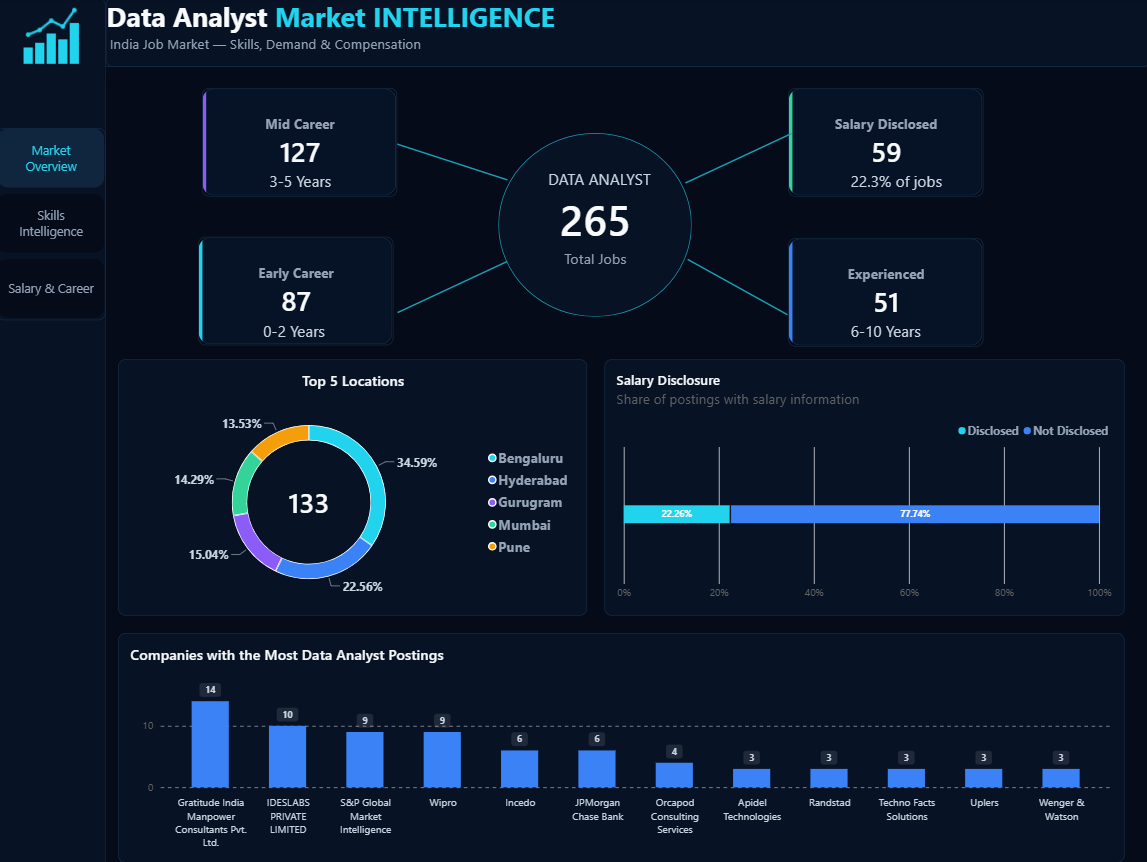

This screenshot's page, from the dashboard's own definition file:
{"tool":"powerbi","page":{"name":"Market Overview","canvas":[1600,1200],"ordinal":0},"visuals":[{"type":"shape","box":[0,0,1600.4,95],"z":0},{"type":"textbox","box":[150.5,0,1449.8,95.4],"z":1000},{"type":"shape","box":[0,0,150.5,1250.1],"z":2000},{"type":"pageNavigator","box":[0,180.3,150.5,266.7],"z":3000},{"type":"shape","box":[694.4,186.3,268.2,254.8],"z":4000},{"type":"cardVisual","fields":{"Data":["job_market_tracker data_analyst_jobs.Total Jobs"]},"box":[728.6,245.9,200,150],"z":5000},{"type":"textbox","box":[764.4,235.4,153.5,41.7],"z":6000},{"type":"cardVisual","title":"Salary Discolsed Jobs","fields":{"Data":["job_market_tracker data_analyst_jobs.Salary Disclosed Jobs"]},"box":[1096.7,125.2,270,150],"z":7000},{"type":"textbox","box":[1183.1,238.4,157.9,35.8],"z":8000},{"type":"cardVisual","title":"Salary Discolsed Jobs","fields":{"Data":["job_market_tracker data_analyst_jobs.Mid Career Jobs"]},"box":[284.6,125.2,270,150],"z":9000},{"type":"textbox","box":[377,238.4,157.9,35.8],"z":10000},{"type":"cardVisual","title":"Salary Discolsed Jobs","fields":{"Data":["job_market_tracker data_analyst_jobs.Early Career Jobs"]},"box":[278.2,331.5,270,150],"z":11000},{"type":"textbox","box":[369.5,447,99.8,35.8],"z":12000},{"type":"cardVisual","title":"Salary Discolsed Jobs","fields":{"Data":["job_market_tracker data_analyst_jobs.Experienced Jobs"]},"box":[1096.7,332.3,270,150],"z":13000},{"type":"textbox","box":[1183.1,447,113.2,35.8],"z":14000},{"type":"donutChart","title":"Top 5 Locations","fields":{"Category":["job_market_tracker data_analyst_jobs.location"],"Y":["job_market_tracker data_analyst_jobs.Job Count"]},"box":[150.5,500.7,667.5,354.6],"z":15000},{"type":"hundredPercentStackedBarChart","title":"Salary Disclosure ","fields":{"Y":["job_market_tracker data_analyst_jobs.Job Count"],"Category":["job_market_tracker data_analyst_jobs.Salary Chart Group"],"Series":["job_market_tracker data_analyst_jobs.Salary Status"]},"box":[828.5,500.7,771.8,354.6],"z":16000},{"type":"columnChart","title":"Companies with the Most Data Analyst Postings","fields":{"Category":["job_market_tracker data_analyst_jobs.companyName"],"Y":["job_market_tracker data_analyst_jobs.Job Count"]},"box":[150.5,865.7,1449.8,333.8],"z":17000},{"type":"shape","box":[554.3,186.3,153.5,80.5],"z":18000},{"type":"shape","box":[956.6,360.6,140.1,80.5],"z":19000},{"type":"shape","box":[554.3,360.6,153.5,80.5],"z":20000},{"type":"shape","box":[949.2,186.3,156.5,70],"z":21000},{"type":"image","box":[0,10.4,150.5,80.5],"z":22000}]}

Visuals, with their boxes in screenshot pixels (x1, y1, x2, y2), scaled from the page's 1600x1200 canvas onto the 1147x862 screenshot:
shape: 0:0:1146:68
textbox: 108:0:1146:69
shape: 0:0:108:861
pageNavigator: 0:130:108:321
shape: 498:134:690:317
cardVisual - job_market_tracker data_analyst_jobs.Total Jobs: 522:177:666:284
textbox: 548:169:658:199
"Salary Discolsed Jobs" cardVisual: 786:90:980:198
textbox: 848:171:961:197
"Salary Discolsed Jobs" cardVisual: 204:90:398:198
textbox: 270:171:383:197
"Salary Discolsed Jobs" cardVisual: 199:238:393:346
textbox: 265:321:336:347
"Salary Discolsed Jobs" cardVisual: 786:239:980:346
textbox: 848:321:929:347
"Top 5 Locations" donutChart: 108:360:586:614
"Salary Disclosure " hundredPercentStackedBarChart: 594:360:1146:614
"Companies with the Most Data Analyst Postings" columnChart: 108:622:1146:861
shape: 397:134:507:192
shape: 686:259:786:317
shape: 397:259:507:317
shape: 680:134:793:184
image: 0:7:108:65
